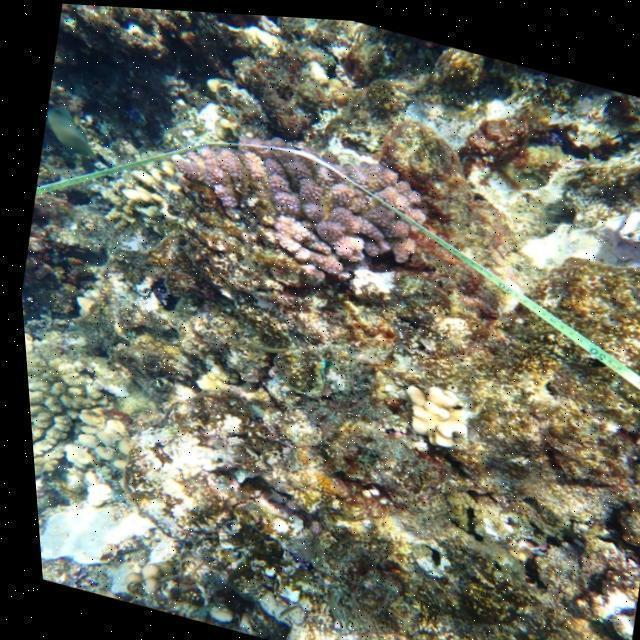Bleached Coral: (27, 453, 179, 598), (488, 173, 640, 301), (111, 397, 241, 517), (383, 371, 481, 460), (330, 249, 410, 307)
Healthy Coral: (172, 146, 447, 245)
